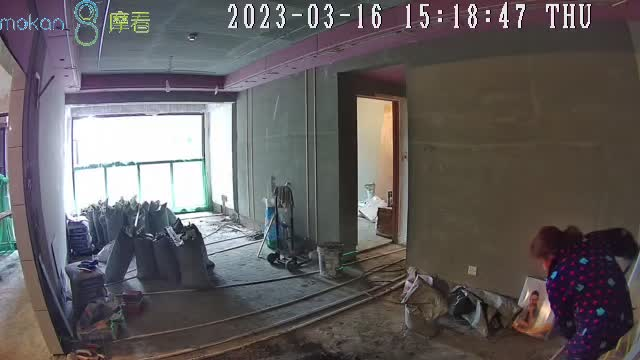people: (526, 224, 636, 360)
window: (73, 113, 209, 215)
